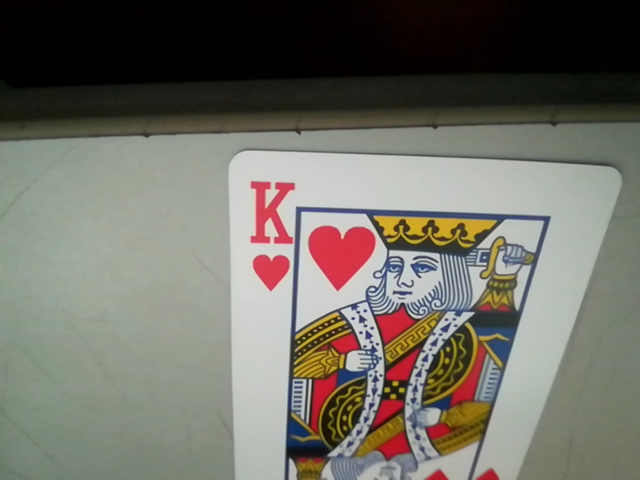hx k: (246, 182, 294, 294)
